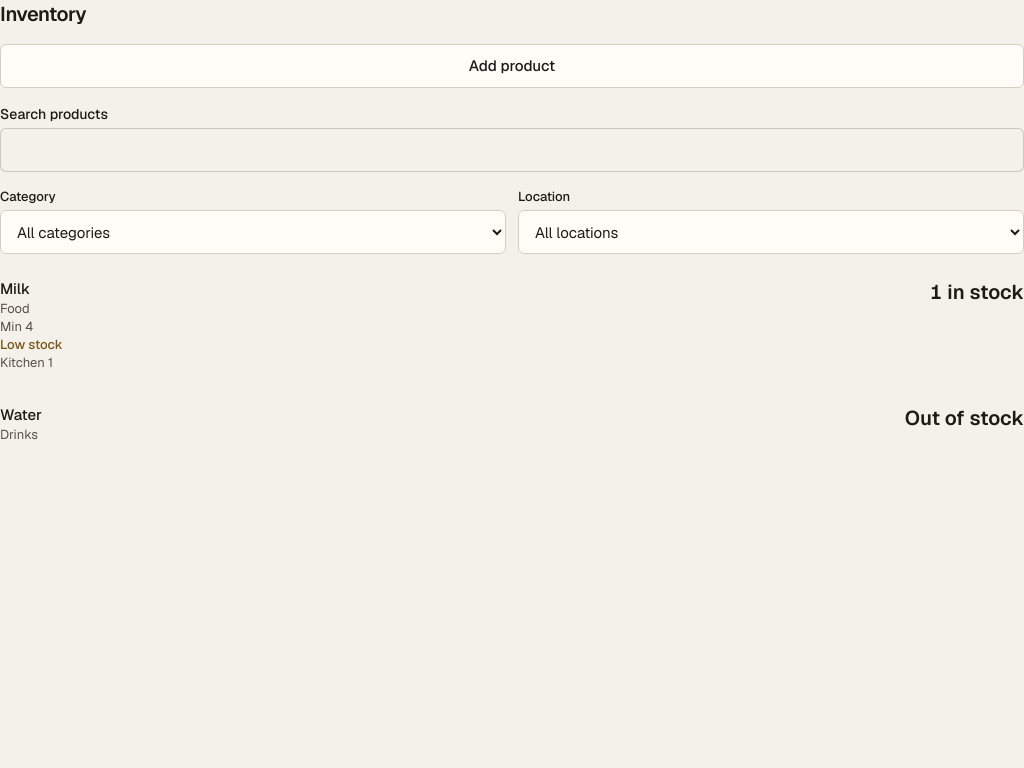
Test case: InventoryOverviewScreen › requires name and category and defaults minimum stock to zero
Expected: the link "Milk" is shown, [0,270,1023,380]
Click the button "Add product" at [512, 66], box [0,44,1023,88]
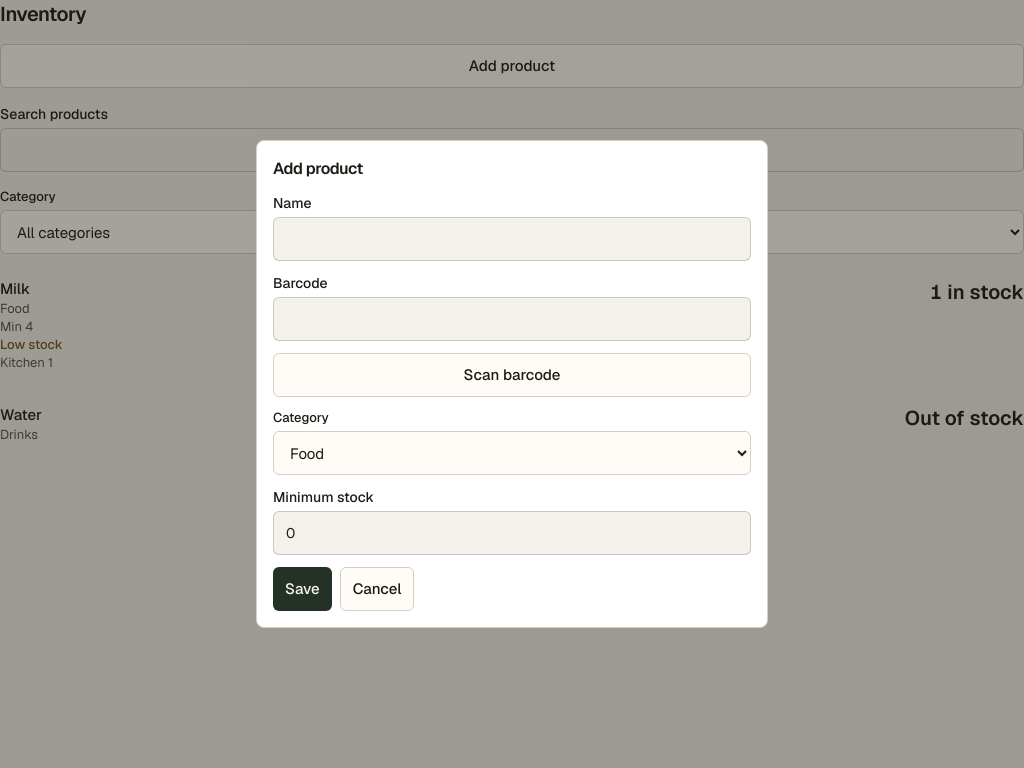
Result: the number field labelled "Minimum stock" holds "0" at [273,511,751,555]
